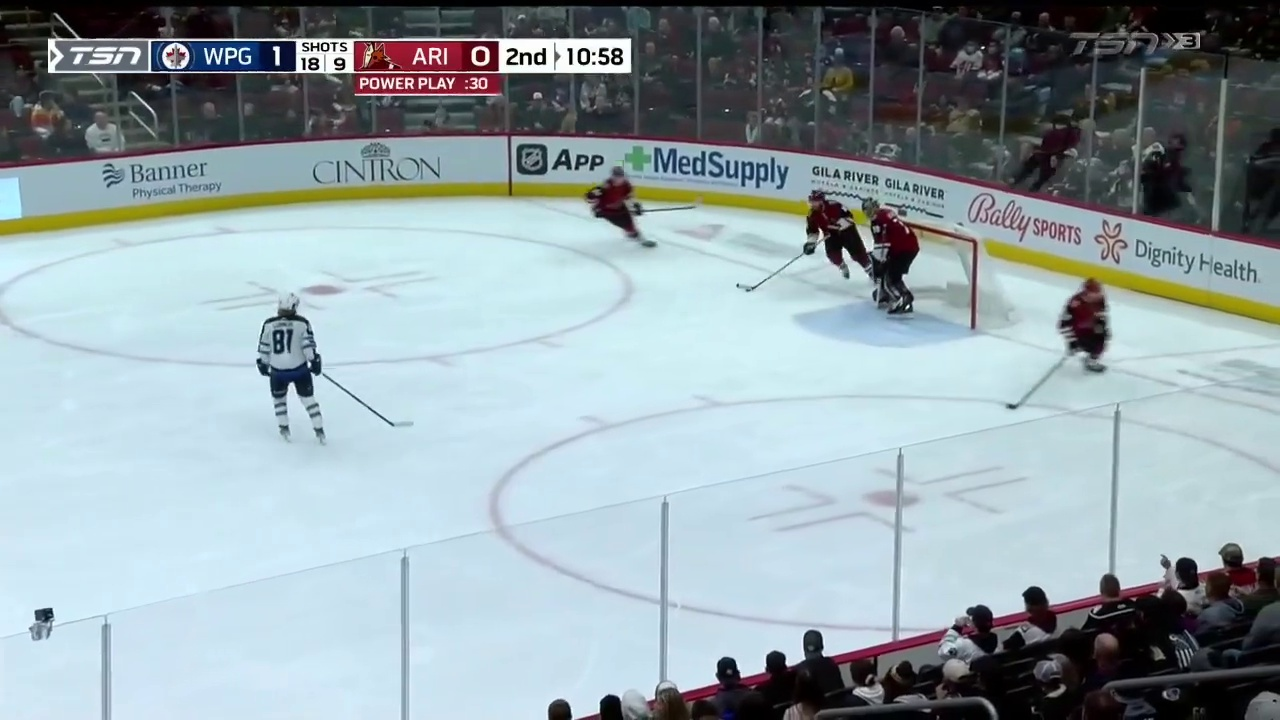goalie: (861, 196, 920, 320)
hockeyplayer: (256, 291, 327, 446), (802, 189, 878, 281), (585, 165, 658, 247), (1056, 278, 1113, 375)
